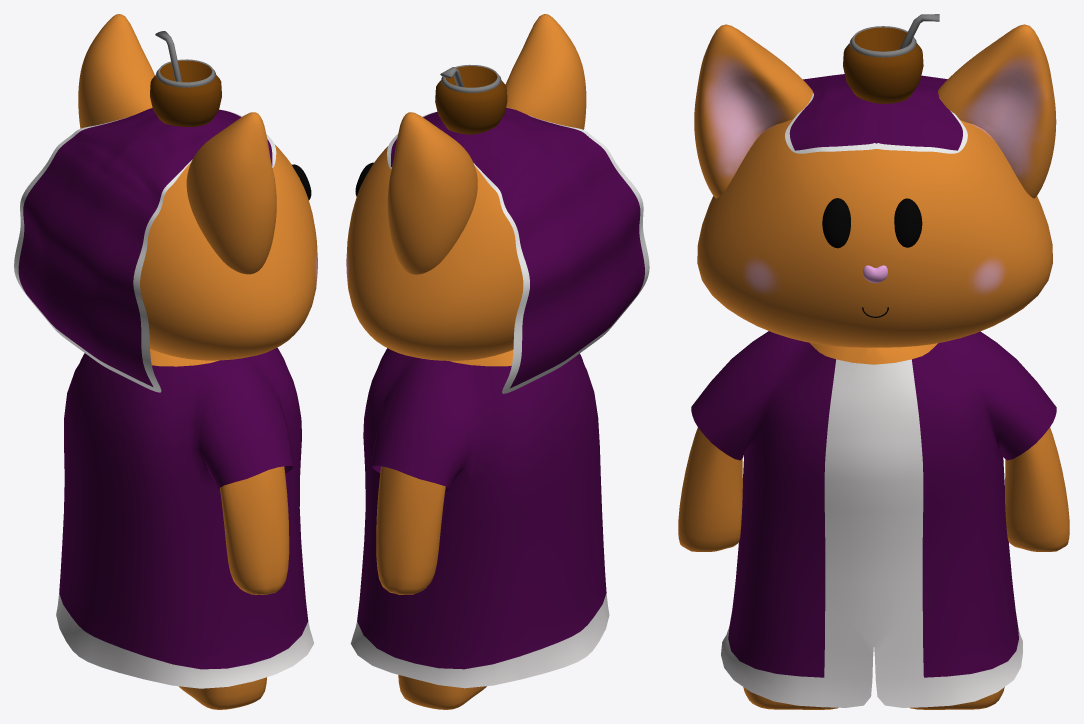
File: jav1.glb
3 renders of one model, left to right at view 1: azimuth 30°, elevation 25°; view 2: azimuth 150°, elevation 25°; view 3: azimuth 270°, elevation 25°, orthographic. The views are drawn at different scales.
Visible parts, largest first — view 1: Jav.001; view 2: Jav.001; view 3: Jav.001.
Boxes of the visible parts, x1=… form: Jav.001: x1=14, y1=14, x2=317, y2=709; Jav.001: x1=346, y1=14, x2=649, y2=709; Jav.001: x1=678, y1=14, x2=1069, y2=709.
Bounding box in the file's own units: 1.67 × 4.22 × 2.19.
Materials: 10 (1 with a texture image).
